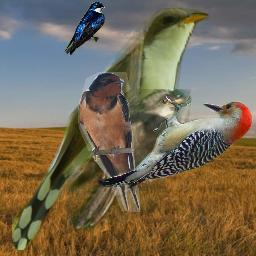Cuckoo: (12, 8, 209, 250), (67, 89, 191, 234)
Swallow: (78, 72, 140, 212), (64, 2, 105, 55)
Woodpecker: (99, 94, 255, 191)
